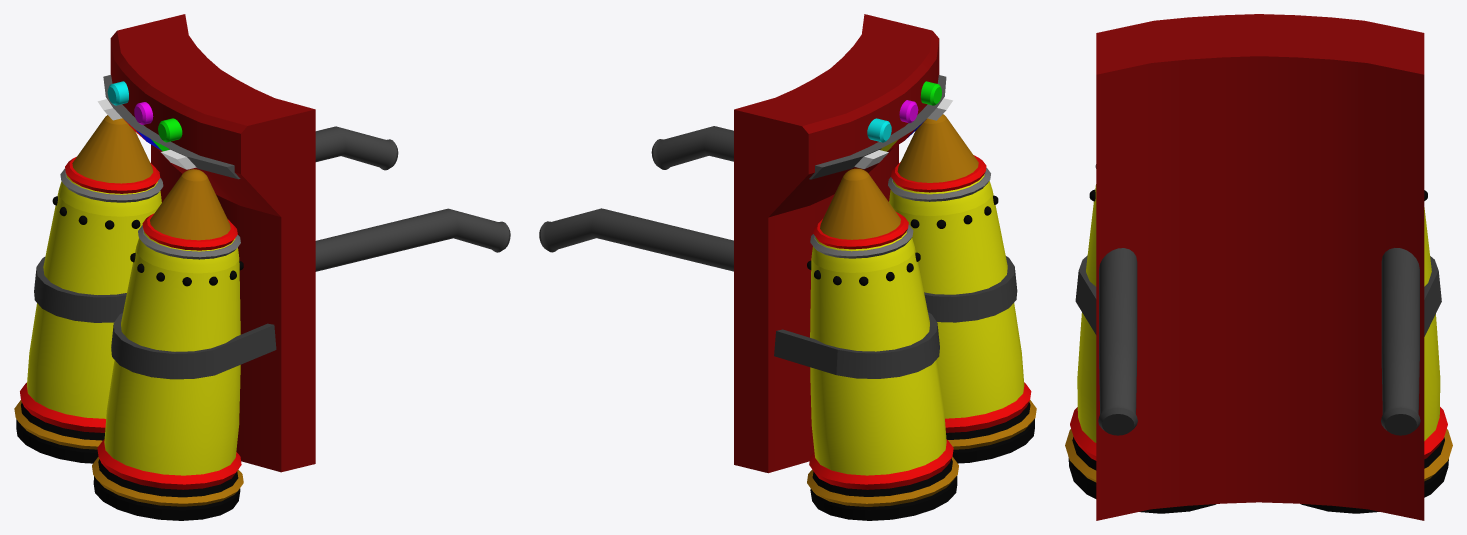
File: jetpack.fbx
3 views of the same model, side by side, from view 1: azimuth 30°, elevation 25°; view 2: azimuth 150°, elevation 25°; view 3: azimuth 270°, elevation 25° (orthographic). The views are drawn at different scales.
Visible parts, largest first — view 1: pCube1, group1_polySurface9, group1_polySurface8, polySurface13, pCylinder4, pCylinder5, polySurface15; view 2: pCube1, group1_polySurface8, group1_polySurface9, polySurface13, pCylinder5, pCylinder4, polySurface15; view 3: pCube1, pCylinder5, pCylinder4, group1_polySurface9, group1_polySurface8, polySurface13.
Part boxes in pixels (x1,y1,x2,y2): pCube1: (110,14,315,472); group1_polySurface9: (92,169,243,520); group1_polySurface8: (14,115,163,463); polySurface13: (34,257,276,379); pCylinder4: (315,208,510,271); pCylinder5: (315,126,398,170); polySurface15: (97,75,240,179); pCube1: (734,14,939,473); group1_polySurface8: (807,168,958,520); group1_polySurface9: (888,114,1036,463); polySurface13: (774,256,1017,378); pCylinder5: (539,208,733,271); pCylinder4: (651,126,733,169); polySurface15: (809,75,952,179); pCube1: (1096,14,1424,520); pCylinder5: (1381,248,1420,435); pCylinder4: (1098,248,1137,435); group1_polySurface9: (1065,164,1216,513); group1_polySurface8: (1301,190,1452,513); polySurface13: (1075,255,1441,336).
Size of the model in its own units: 15.53 by 14.47 by 10.68.
